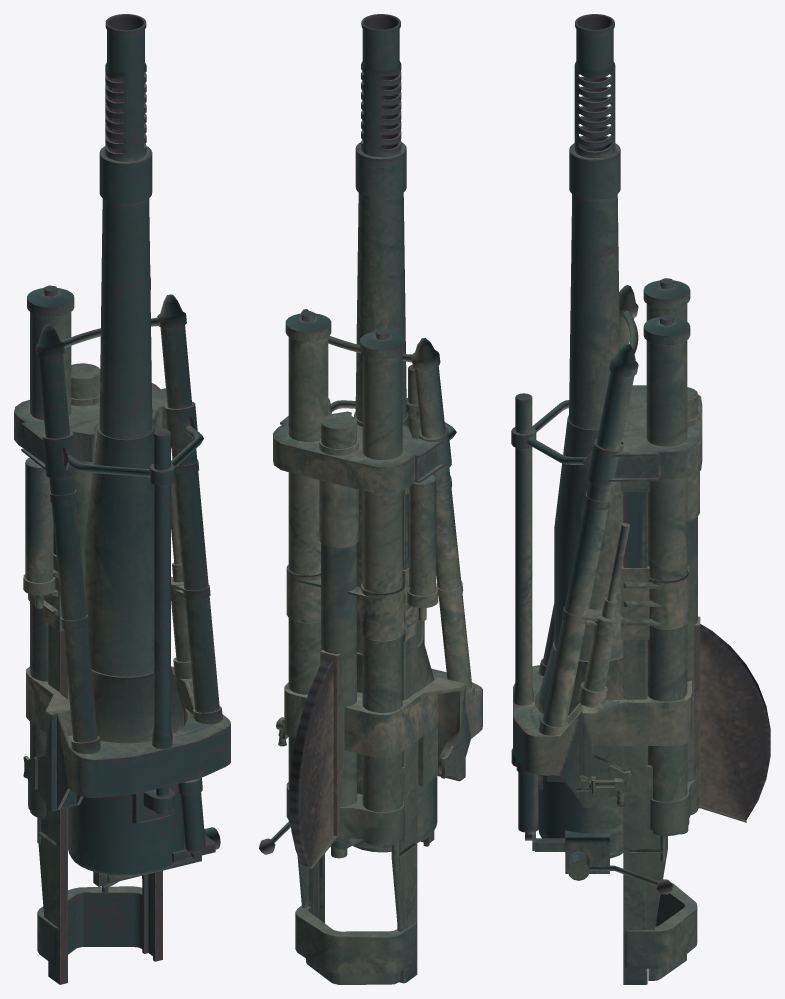
File: Gun_02.glb
The picture shows the model from 3 angles, left to right: view 1: azimuth 30°, elevation 25°; view 2: azimuth 150°, elevation 25°; view 3: azimuth 270°, elevation 25°; orthographic projection. The views are drawn at different scales.
Visible parts, largest first — view 1: set_0_group_0; view 2: set_0_group_0; view 3: set_0_group_0.
Part boxes in pixels (bbox=[...]): set_0_group_0: bbox=[14, 14, 230, 984]; set_0_group_0: bbox=[259, 14, 482, 984]; set_0_group_0: bbox=[511, 14, 770, 984].
Bounding box in the file's own units: 1.01 × 5.11 × 1.28.
1 material, 1 textured.
